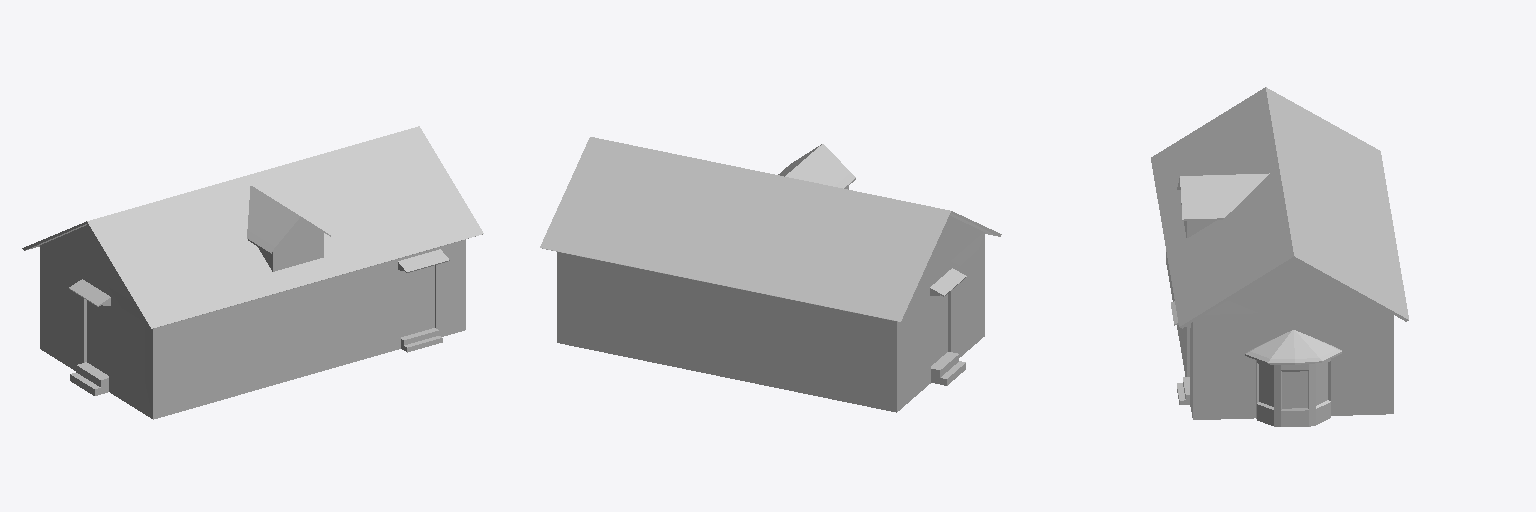
The model's file is house2.obj.
3 renders of one model, left to right at view 1: azimuth 30°, elevation 25°; view 2: azimuth 150°, elevation 25°; view 3: azimuth 270°, elevation 25°, orthographic.
Parts seen in each view (by area): view 1: cottage_obj; view 2: cottage_obj; view 3: cottage_obj.
Part boxes in pixels (left/top/right/bottom): cottage_obj: left=22, top=126, right=483, bottom=419; cottage_obj: left=540, top=137, right=1001, bottom=412; cottage_obj: left=1151, top=87, right=1408, bottom=426.
Bounding box in the file's own units: 33.93 × 14.67 × 20.74.